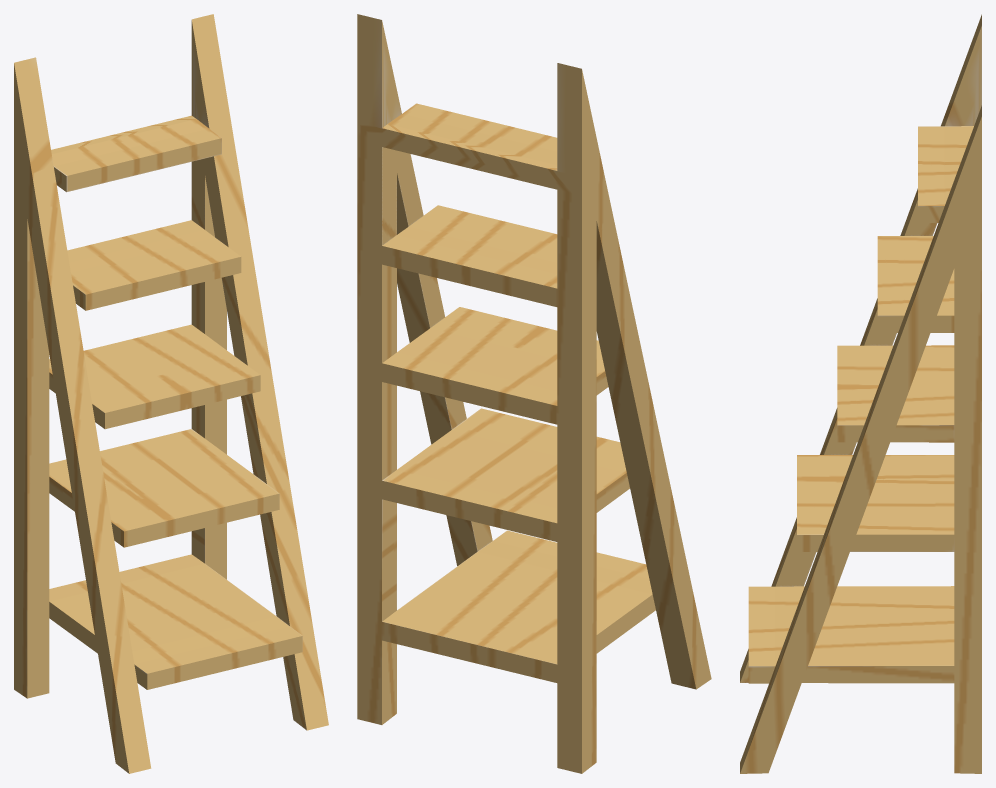
The model's file is Y3BoxLadder.fbx.
3 views of the same model, side by side, from view 1: azimuth 30°, elevation 25°; view 2: azimuth 150°, elevation 25°; view 3: azimuth 270°, elevation 25° (orthographic). The views are drawn at different scales.
Visible parts, largest first — view 1: nannka3; view 2: nannka3; view 3: nannka3.
Part boxes in pixels (box(x1,y1,x2,y2)): nannka3: box(14, 14, 328, 773); nannka3: box(357, 14, 711, 773); nannka3: box(740, 14, 981, 773).
Size of the model in its own units: 1 by 3 by 1.
Materials: 1 (1 with a texture image).
